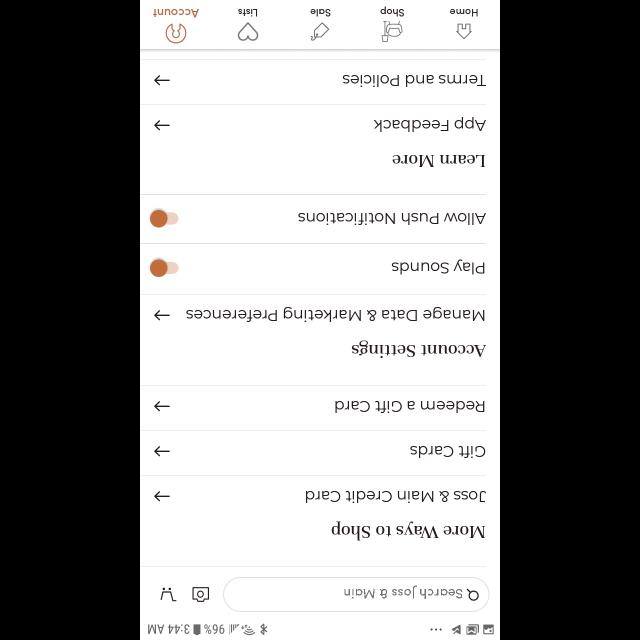icon: (166, 23, 187, 43), (310, 22, 330, 42), (238, 22, 258, 40), (192, 586, 208, 602), (456, 23, 472, 39), (160, 587, 176, 601), (154, 74, 170, 86), (154, 491, 170, 502), (154, 401, 170, 412), (154, 446, 170, 456), (154, 310, 170, 320), (154, 120, 170, 130), (466, 588, 478, 600)
image: (381, 21, 403, 43)
input: (223, 576, 489, 612)
switch: (150, 259, 178, 277), (150, 210, 178, 228)
text: (186, 306, 484, 322), (331, 520, 485, 540), (298, 212, 486, 225), (352, 340, 486, 358), (306, 491, 486, 503), (342, 74, 486, 88), (336, 401, 484, 414), (374, 116, 486, 132), (344, 585, 462, 599), (392, 259, 484, 275), (392, 154, 484, 168), (410, 446, 484, 458), (153, 8, 199, 18), (380, 6, 404, 18), (449, 9, 477, 17), (238, 9, 258, 17), (310, 9, 330, 17)
uppertaskbar: (140, 622, 500, 640)
